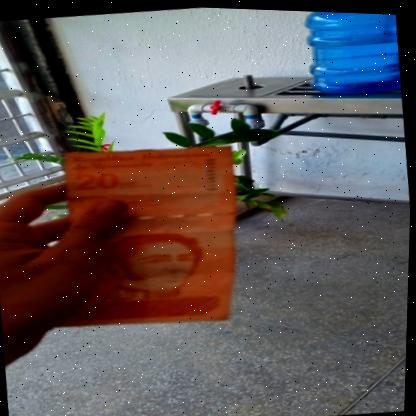twenty-front-vef: (33, 134, 249, 335)
